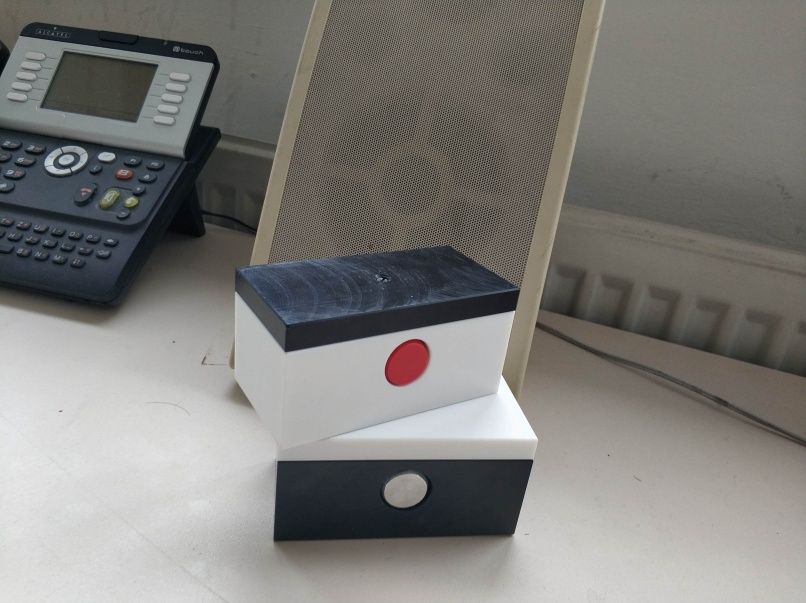black+white+red: (230, 245, 524, 453)
white+black+silver: (270, 375, 540, 545)
